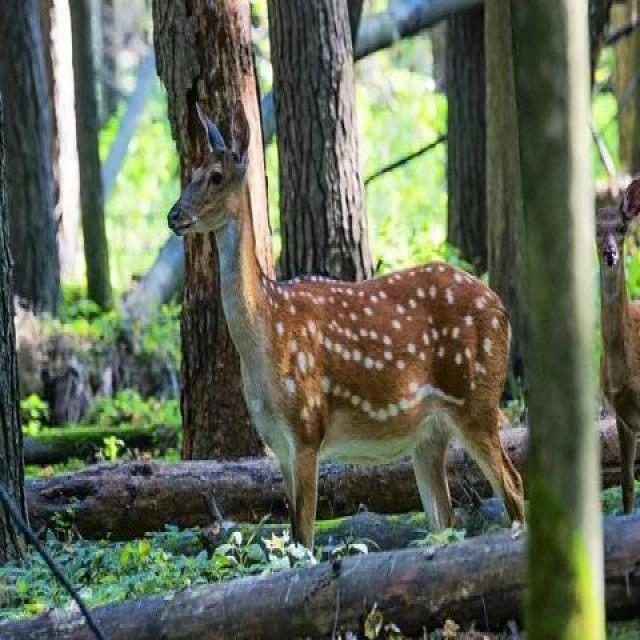deer: (172, 135, 598, 574)
